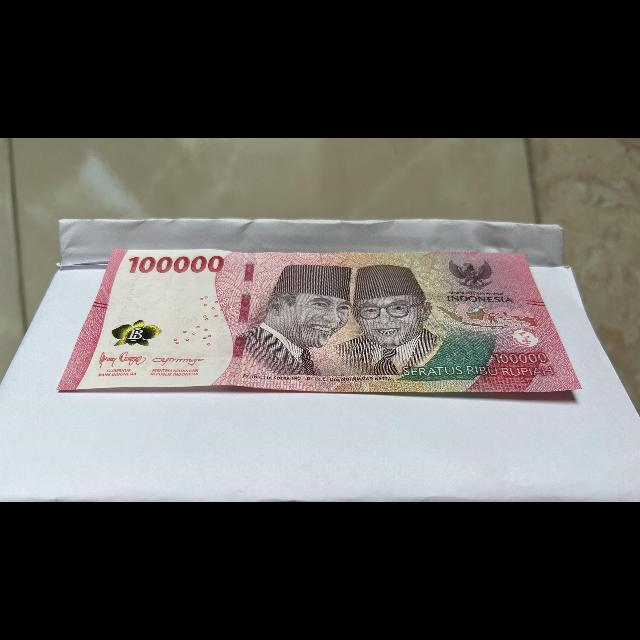Asli-100k: (53, 246, 591, 398)
Tinta-Asli-100k: (105, 316, 167, 350)
